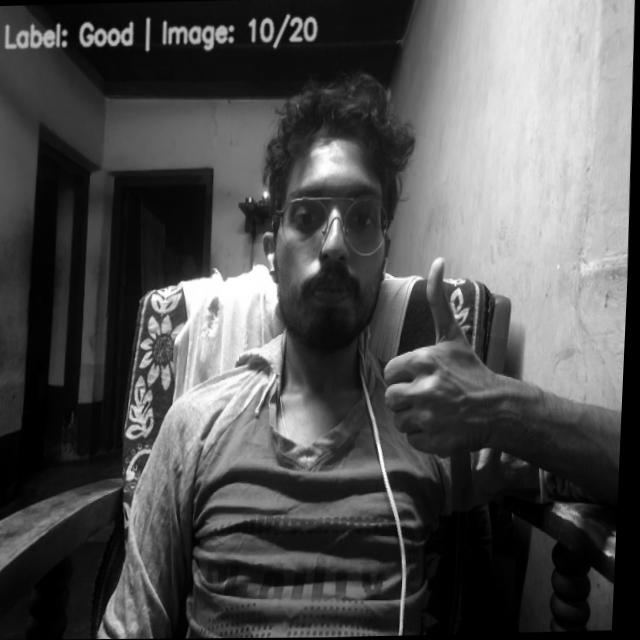Good: (381, 243, 514, 449)
